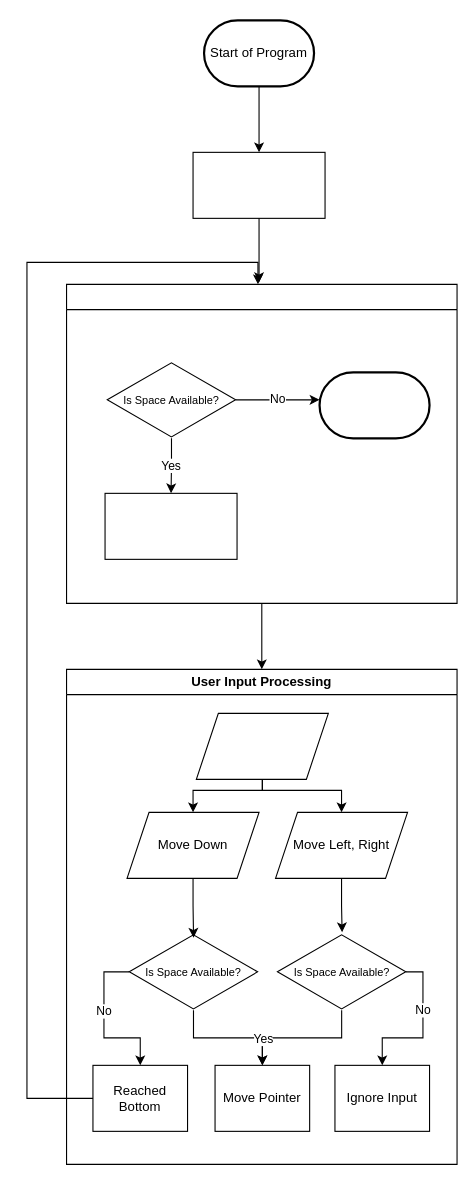
Image size: 476x1184. Some labels were removed from this diagram. Here are the shapes that lost their labels. From the top down, the box of each, then its label:
(192, 151, 325, 218): Logic.Py Call
(318, 371, 430, 439): Game Over!
(65, 283, 457, 603): Block Spawning Process
(104, 492, 237, 559): Spawn Block
(195, 712, 328, 779): Keyboard Input
